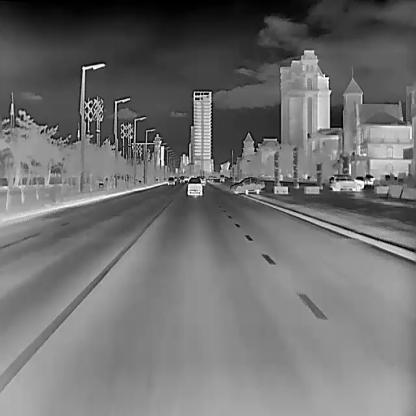car: (230, 176, 265, 195), (328, 173, 364, 189), (186, 177, 203, 198), (166, 175, 174, 185), (218, 172, 223, 182), (178, 175, 184, 183)
